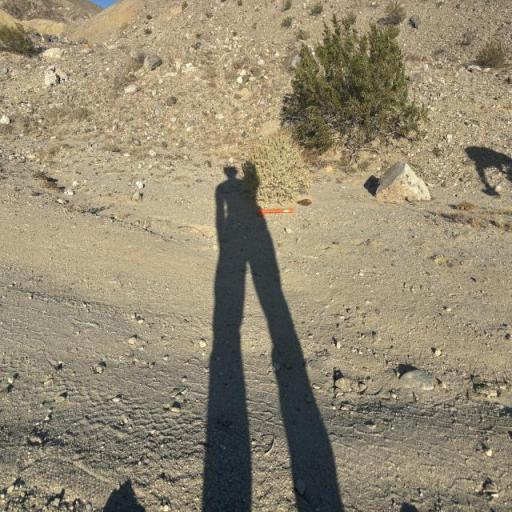mallet: (252, 197, 298, 224)
